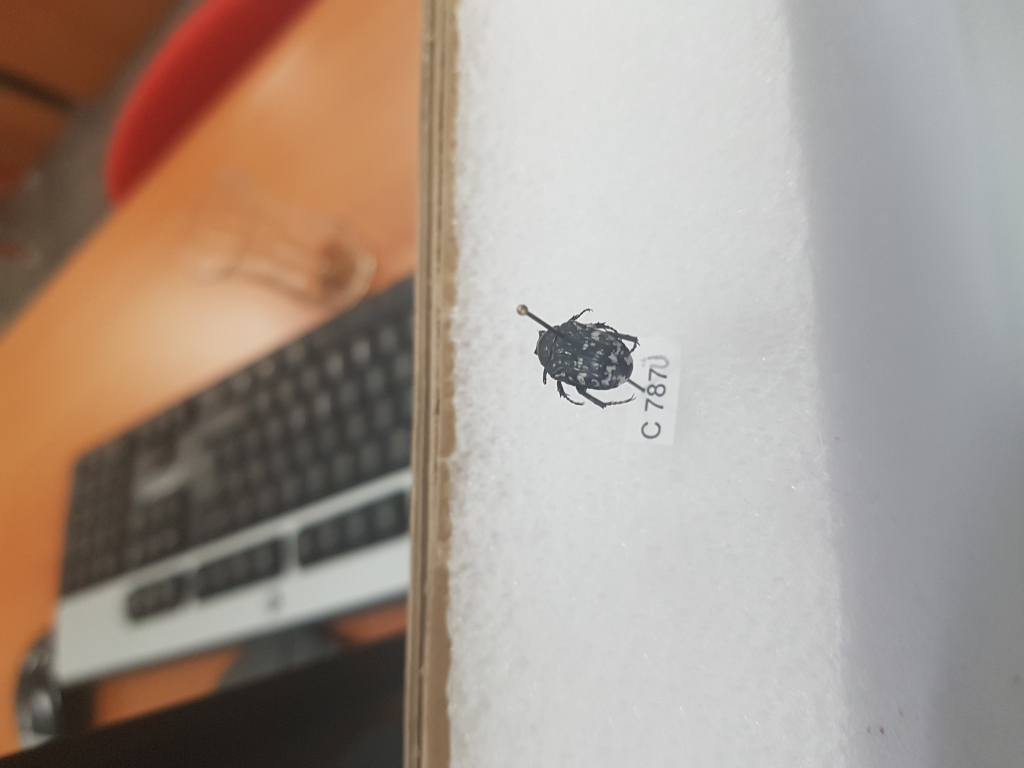Oxythyrea_albopicta: (533, 306, 651, 421)
